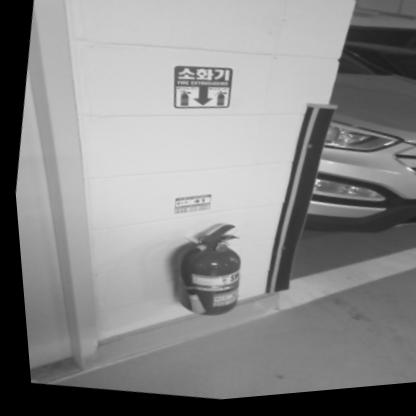FE: (166, 220, 245, 326)
